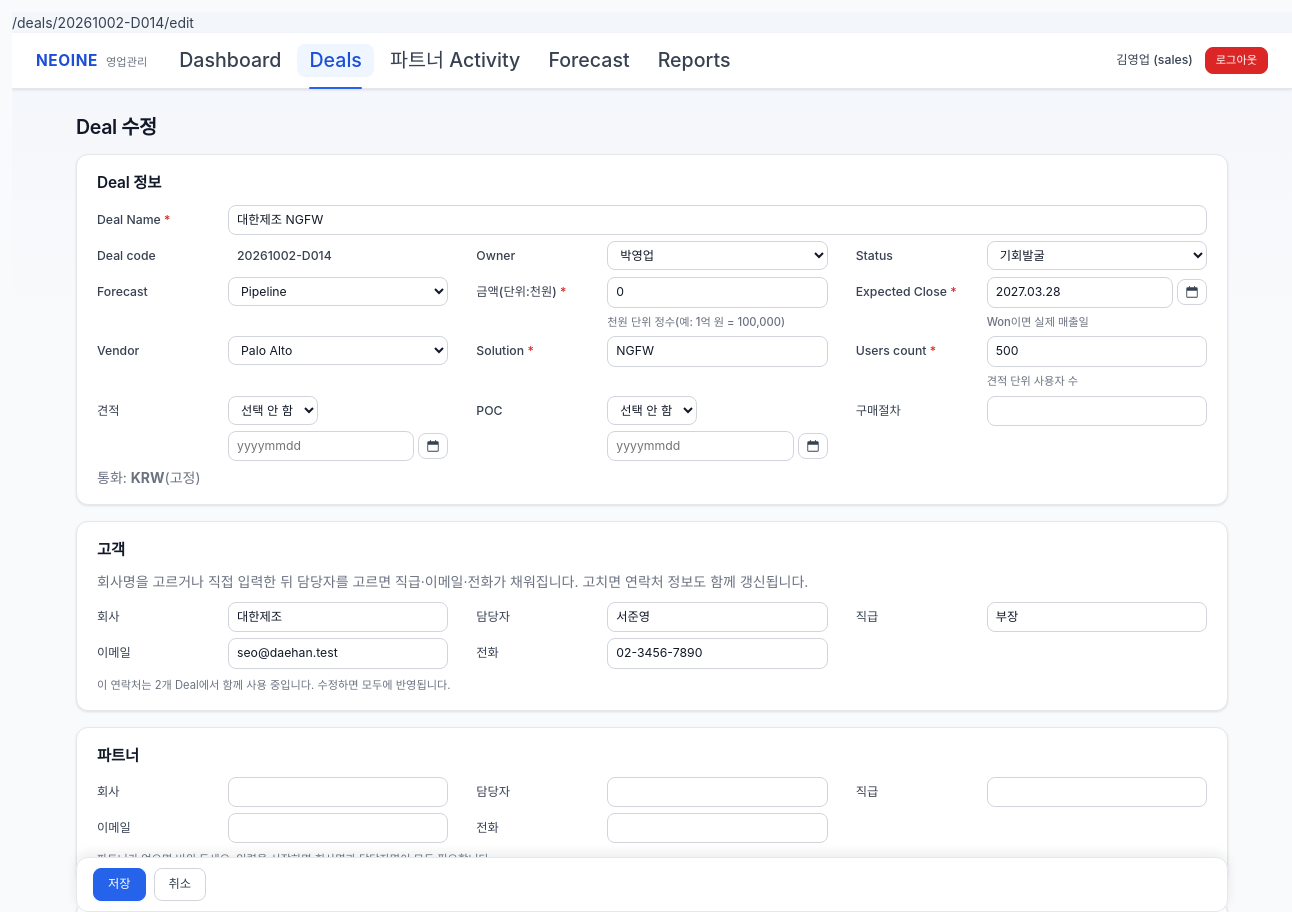
Test: 1~499원 금액 Deal 수정 (표기 0) › still rejects an emptied amount
The image size is (1292, 912).
Expected: the heading "Deal 수정" is shown, [76,115,157,139]
Clear the field labelled "금액(단위:천원)". click: (717, 292)
box: [607,277,828,308]
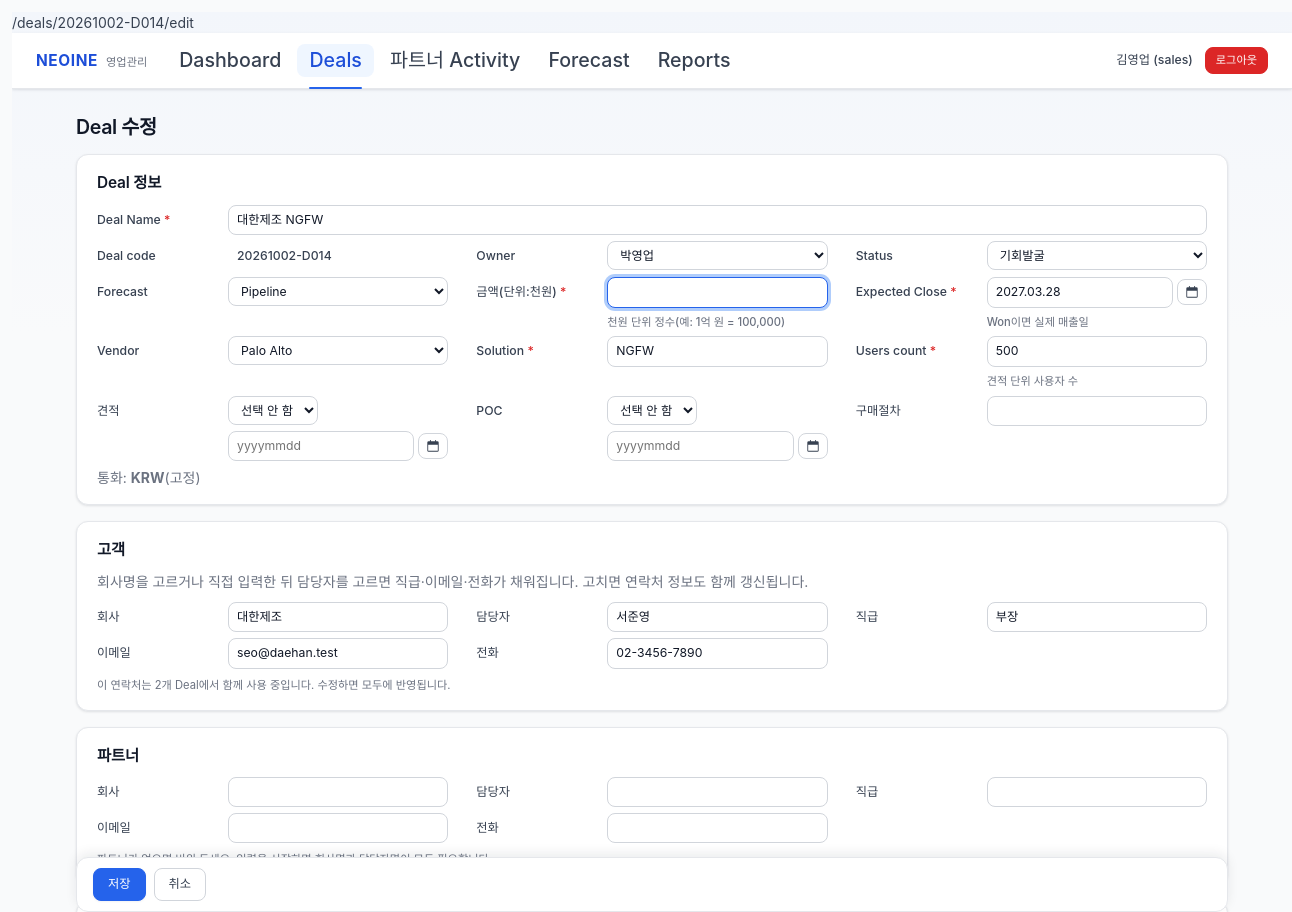
Click the button "저장". click: (119, 885)
box: [93,869,146,901]
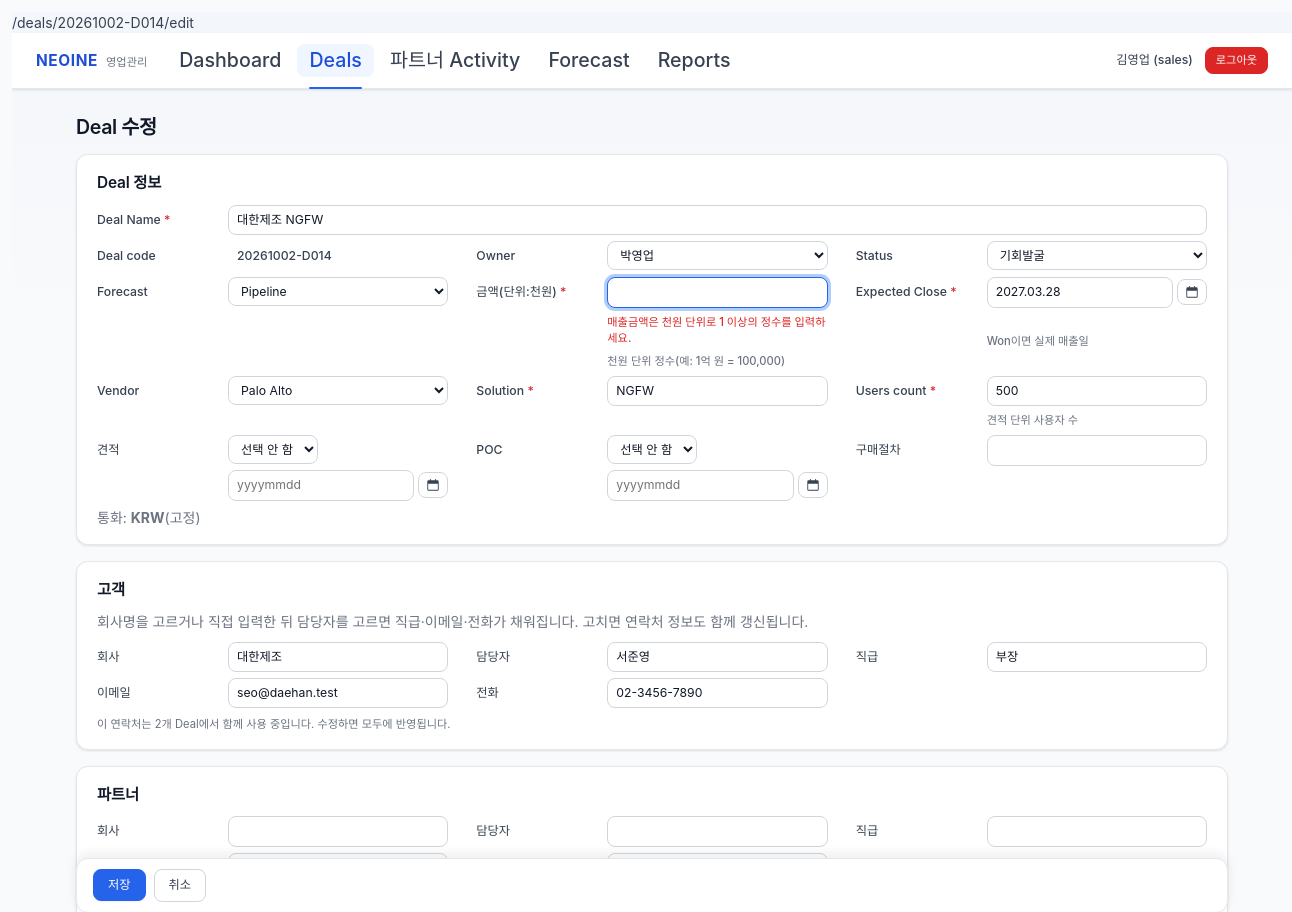
Expected: the text with test id "location" shows "/edit", [12,14,194,31]
Expected: the text "매출금액은 천원 단위로 1 이상의 정수를 입력하세요." is shown, [607,314,828,347]
